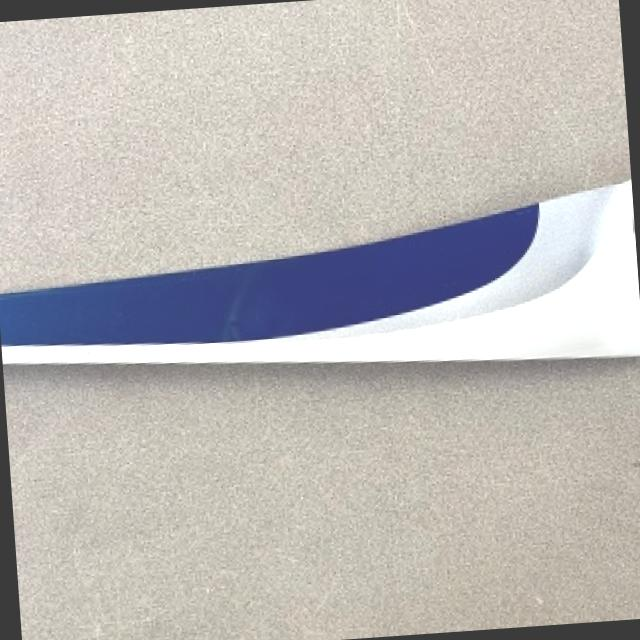healthy: (0, 0, 640, 359), (0, 181, 640, 359)
